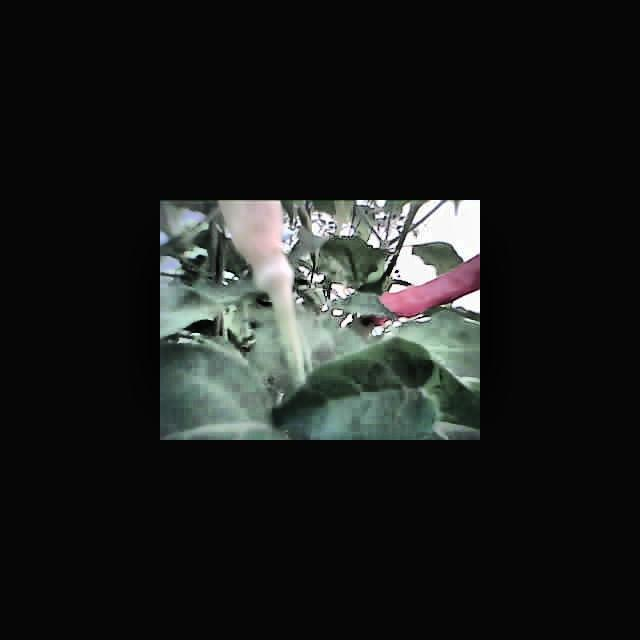Cabai: (371, 257, 480, 324)
